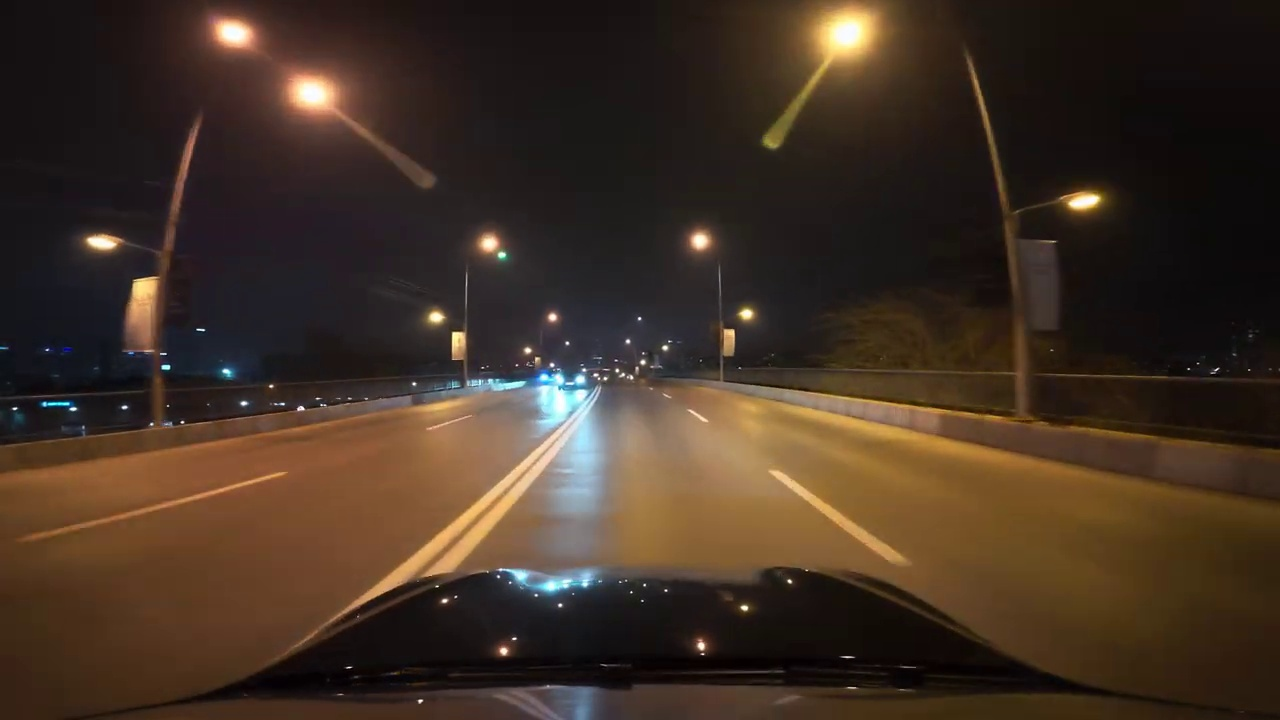acesa: (816, 11, 877, 62), (288, 75, 334, 117), (212, 20, 253, 51), (128, 277, 157, 314), (84, 232, 119, 256), (475, 231, 503, 259), (687, 227, 714, 254), (734, 303, 760, 328), (421, 306, 447, 328), (542, 308, 563, 329)
